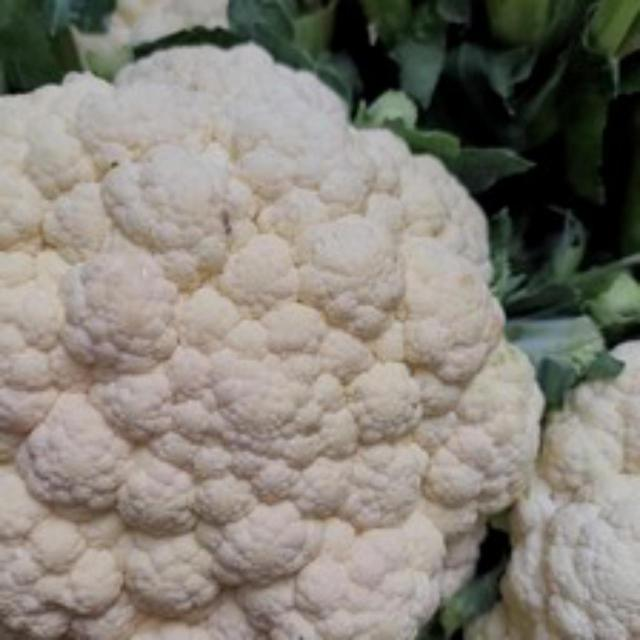cauliflower: (0, 37, 557, 637)
